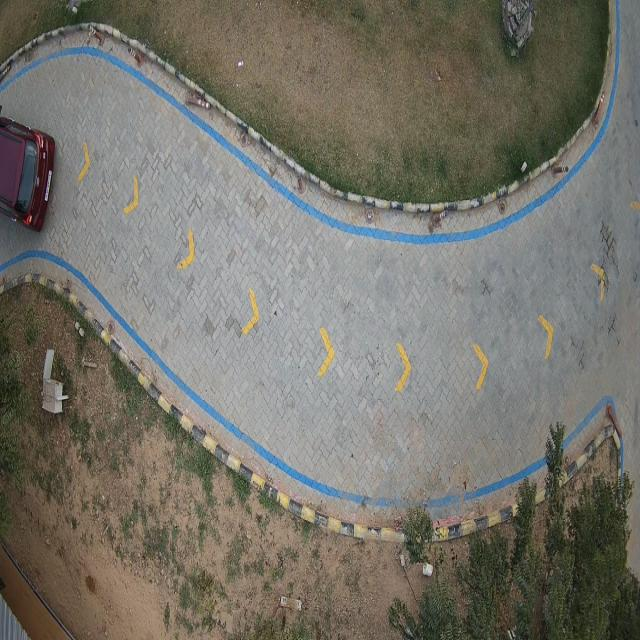car: (0, 113, 55, 231)
